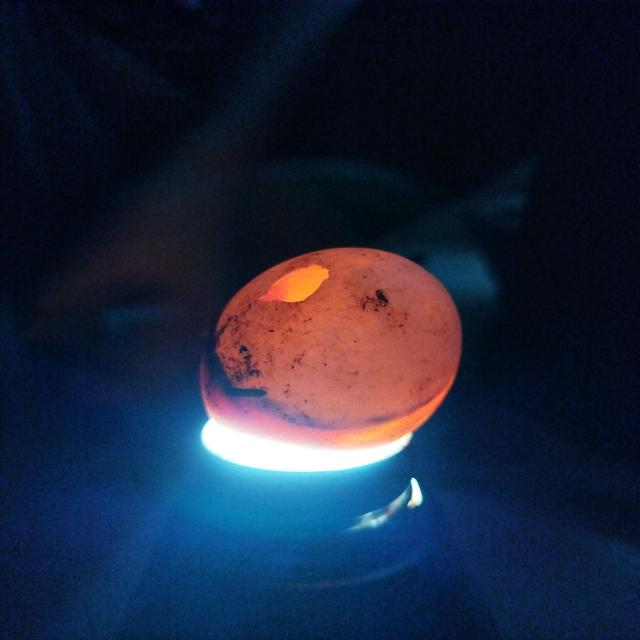Area Infectada: (201, 329, 446, 433)
